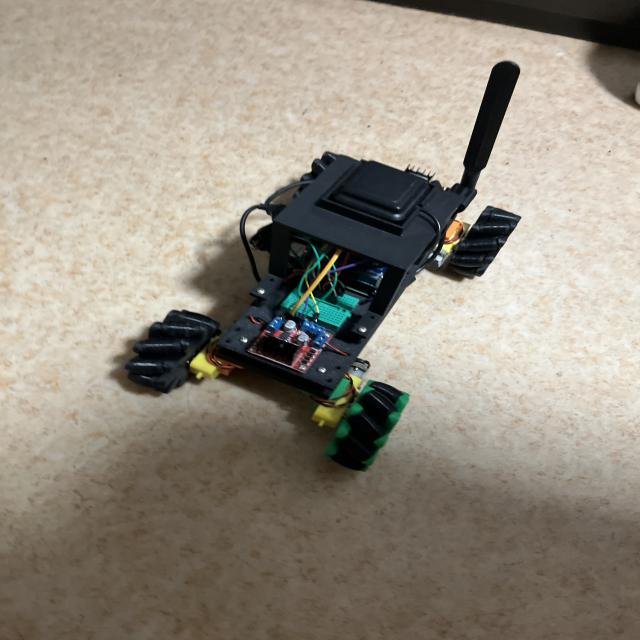robot: (125, 61, 520, 470)
